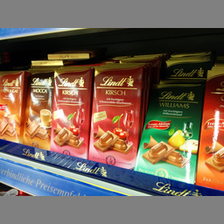chocolate: (139, 67, 202, 181), (90, 65, 142, 168), (51, 68, 91, 160), (22, 74, 53, 151), (1, 70, 23, 143)
